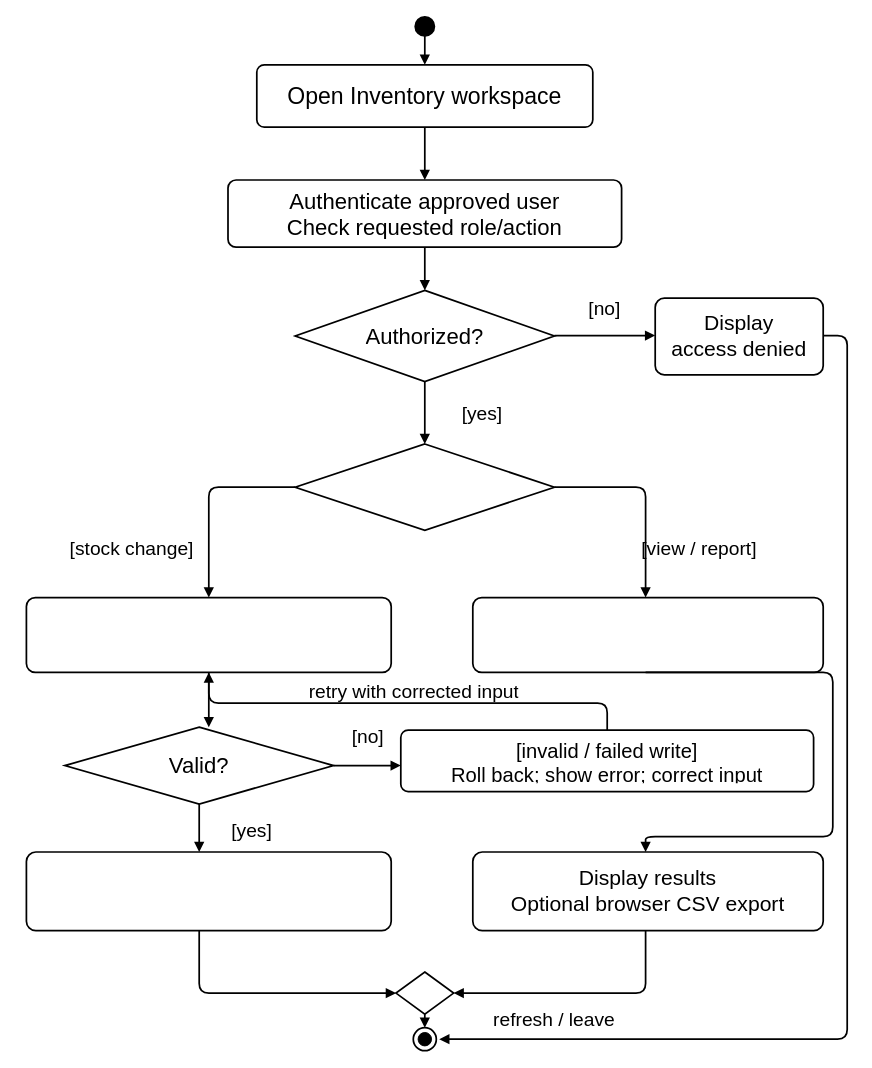
The diagram is 872 pixels wide and 1068 high, and some of its shapes have lost their labels. Each missing label, with the centre of its shape:
Commit related writes atomically or record pending count: (208,891)
Read balances / history / reports Apply selected filters: (647,634)
Receive / count / waste / return Validate input and stock state: (208,634)
Select function: (424,487)
